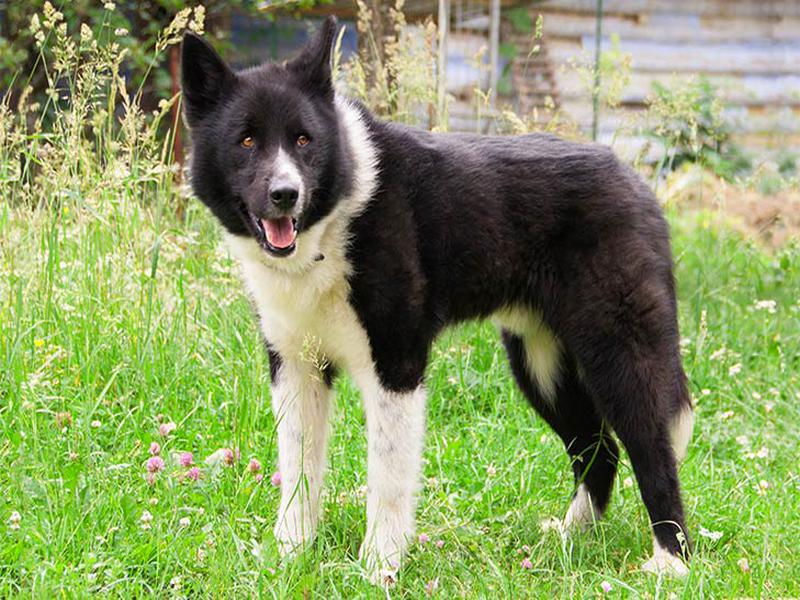dog_stand: (175, 16, 703, 592)
